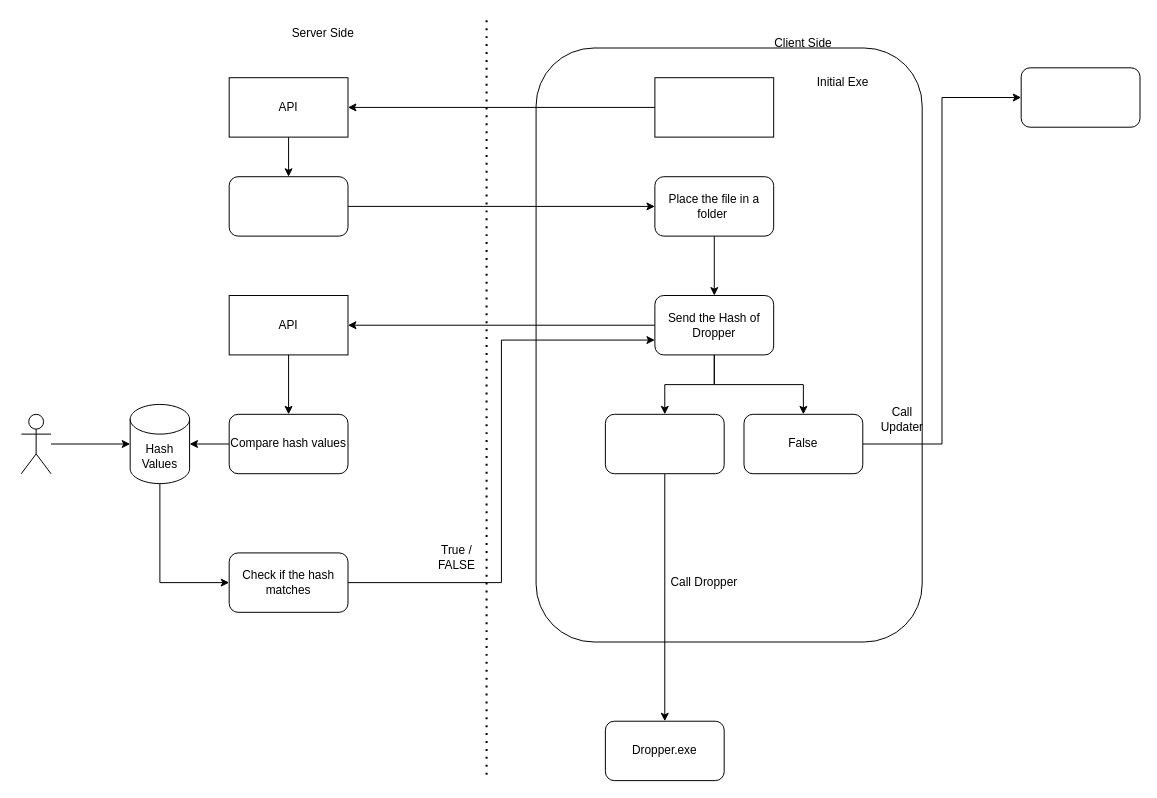
This 1157x798 diagram has some shape labels left out. Here are the shapes that lost their labels. From the top down, the box of each, then its label:
(654, 77, 774, 137): Send Finger Print - OS Info
(1020, 67, 1140, 127): Updater
(228, 176, 348, 236): Send Dropper File to the requestor
(20, 413, 51, 474): ADMIN
(604, 413, 724, 474): True
